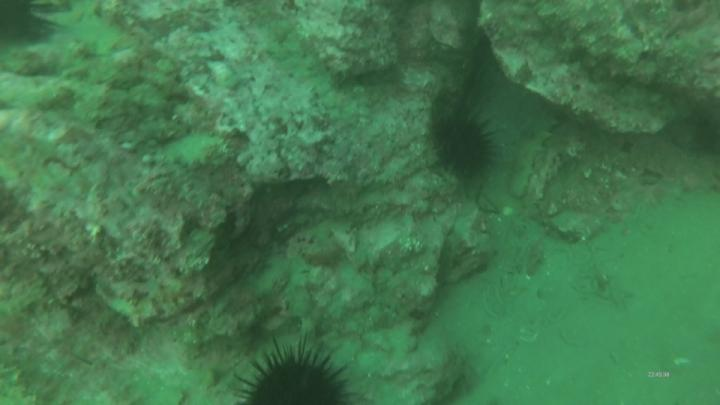echinus: (224, 333, 359, 405), (434, 107, 502, 186), (4, 1, 63, 51)
holothurian: (506, 107, 566, 200)
